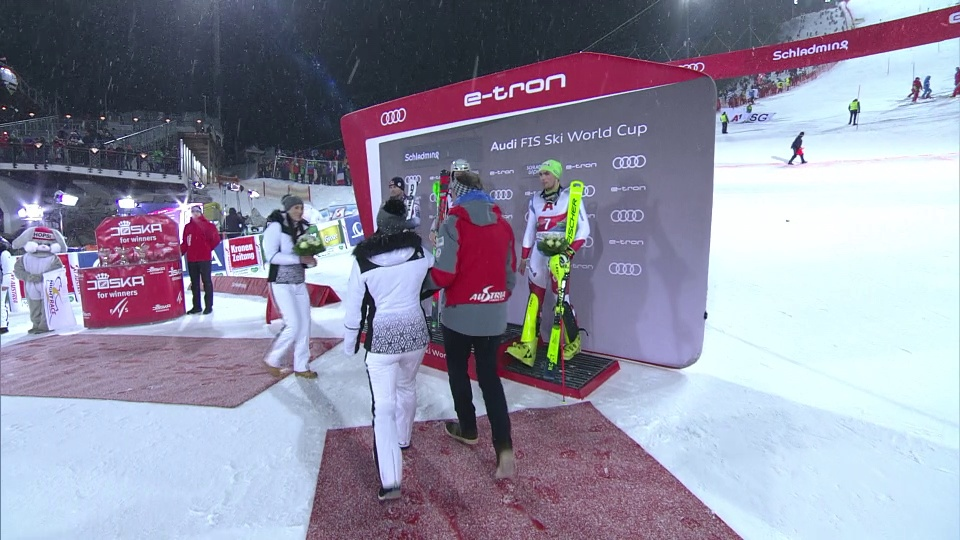a1: (541, 200, 560, 215)
audi: (607, 209, 649, 228), (610, 155, 651, 174), (606, 262, 644, 282), (378, 107, 409, 129), (674, 60, 707, 75), (489, 189, 518, 205), (577, 183, 598, 202)
etron: (460, 73, 575, 110), (609, 183, 650, 196), (608, 237, 648, 250), (943, 3, 959, 29), (565, 161, 600, 172), (488, 168, 518, 178), (572, 263, 599, 273)
kronenzeitung: (227, 237, 259, 271)
schladming: (770, 40, 851, 63)
